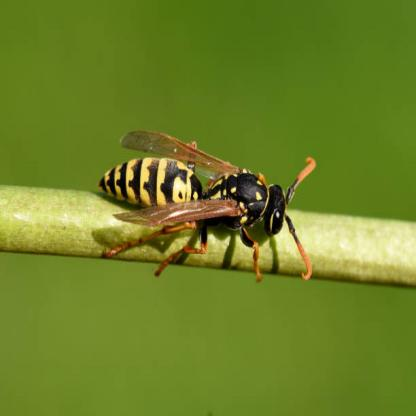sawfly: (94, 120, 321, 291)
